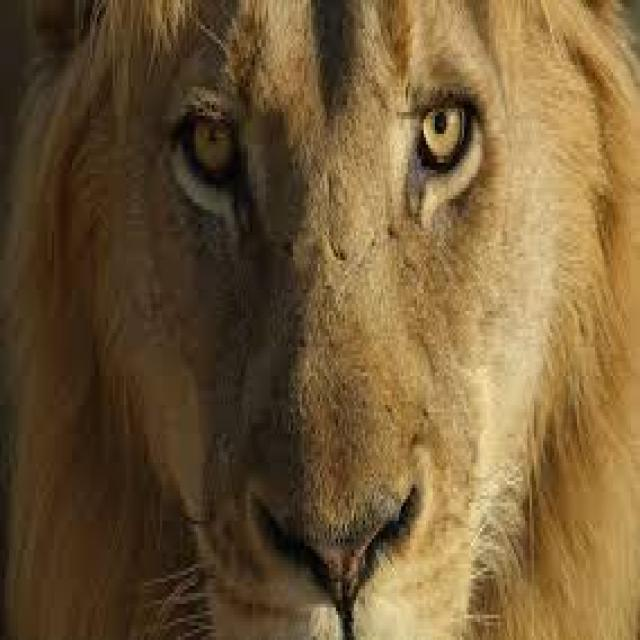Lion: (9, 3, 638, 636)
